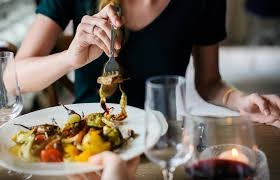glass: (138, 71, 195, 180), (187, 139, 275, 180), (1, 49, 25, 126)
kitchen_waste: (85, 102, 132, 151), (60, 131, 115, 161), (55, 99, 82, 141), (11, 129, 39, 164), (39, 145, 62, 165)
metal: (99, 11, 129, 96)
